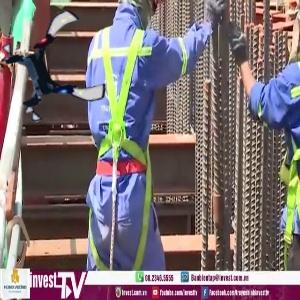drone: (5, 17, 104, 116)
